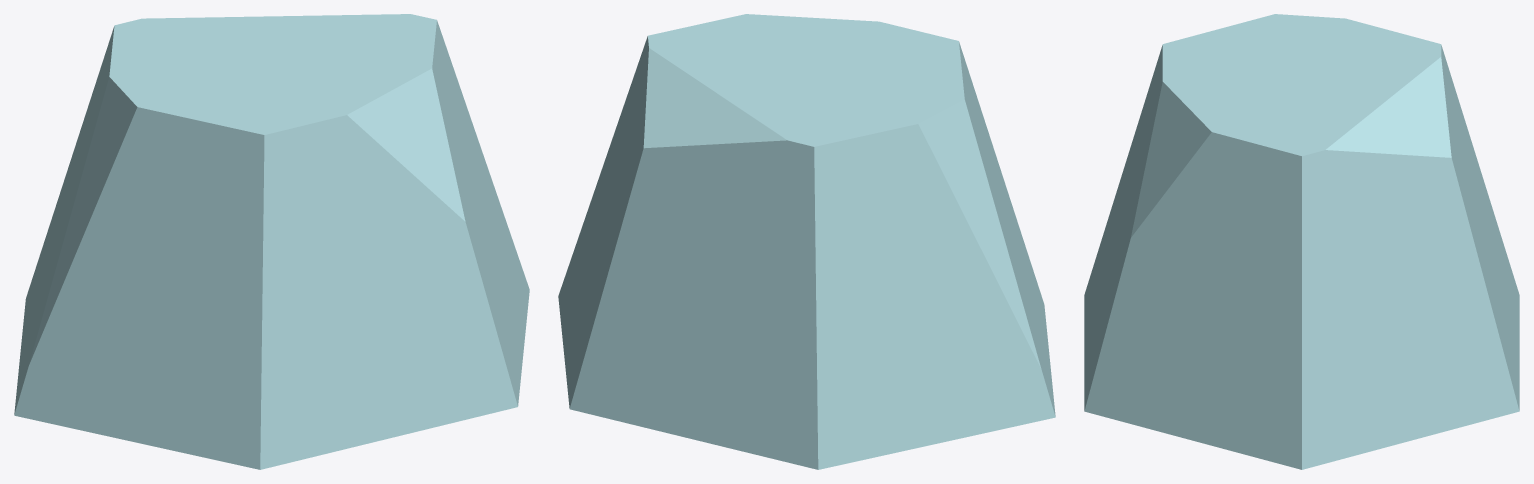
File: support0.fbx
The picture shows the model from 3 angles, left to right: view 1: azimuth 30°, elevation 25°; view 2: azimuth 150°, elevation 25°; view 3: azimuth 270°, elevation 25°; orthographic projection. The views are drawn at different scales.
Visible parts, largest first — view 1: mergedBlocks; view 2: mergedBlocks; view 3: mergedBlocks.
Part boxes in pixels (left/top/right/bottom): mergedBlocks: left=14, top=14, right=529, bottom=469; mergedBlocks: left=558, top=14, right=1055, bottom=469; mergedBlocks: left=1084, top=14, right=1519, bottom=469.
Bounding box in the file's own units: 10.3 × 5.59 × 8.11.
